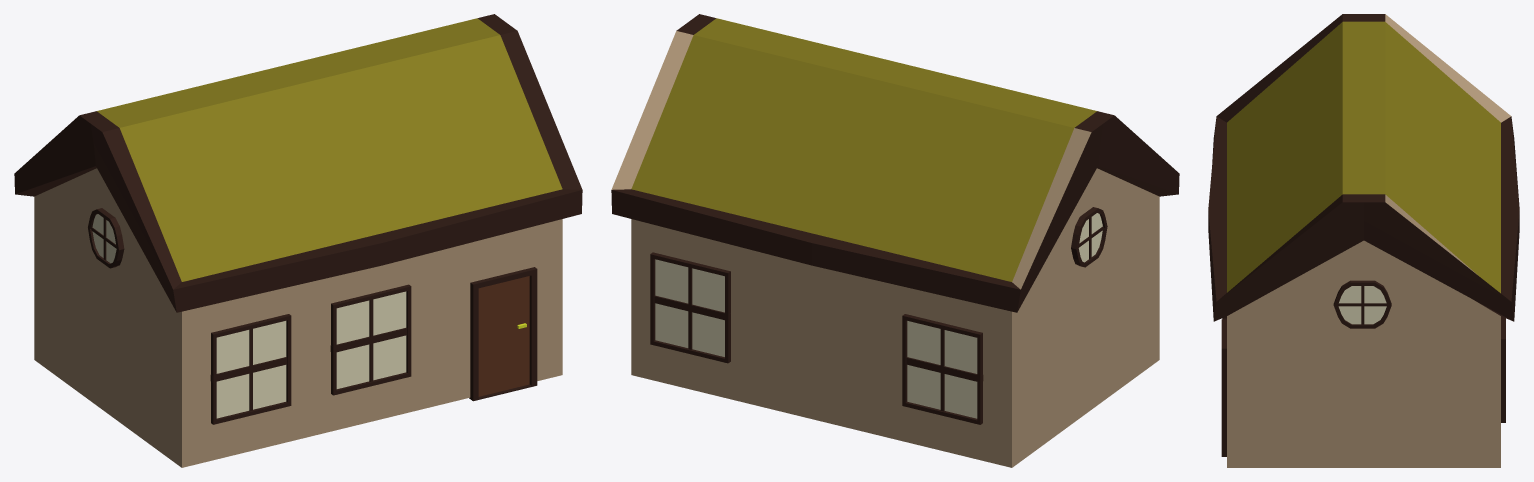
The picture shows the model from 3 angles, left to right: view 1: azimuth 30°, elevation 25°; view 2: azimuth 150°, elevation 25°; view 3: azimuth 270°, elevation 25°; orthographic projection. The views are drawn at different scales.
Visible parts, largest first — view 1: Ev2; view 2: Ev2; view 3: Ev2.
Boxes of the visible parts, x1,y1,x2,y2 form: Ev2: (14,14,582,467); Ev2: (611,14,1179,467); Ev2: (1208,14,1519,467).
Bounding box in the file's own units: 1403 × 956 × 980.
